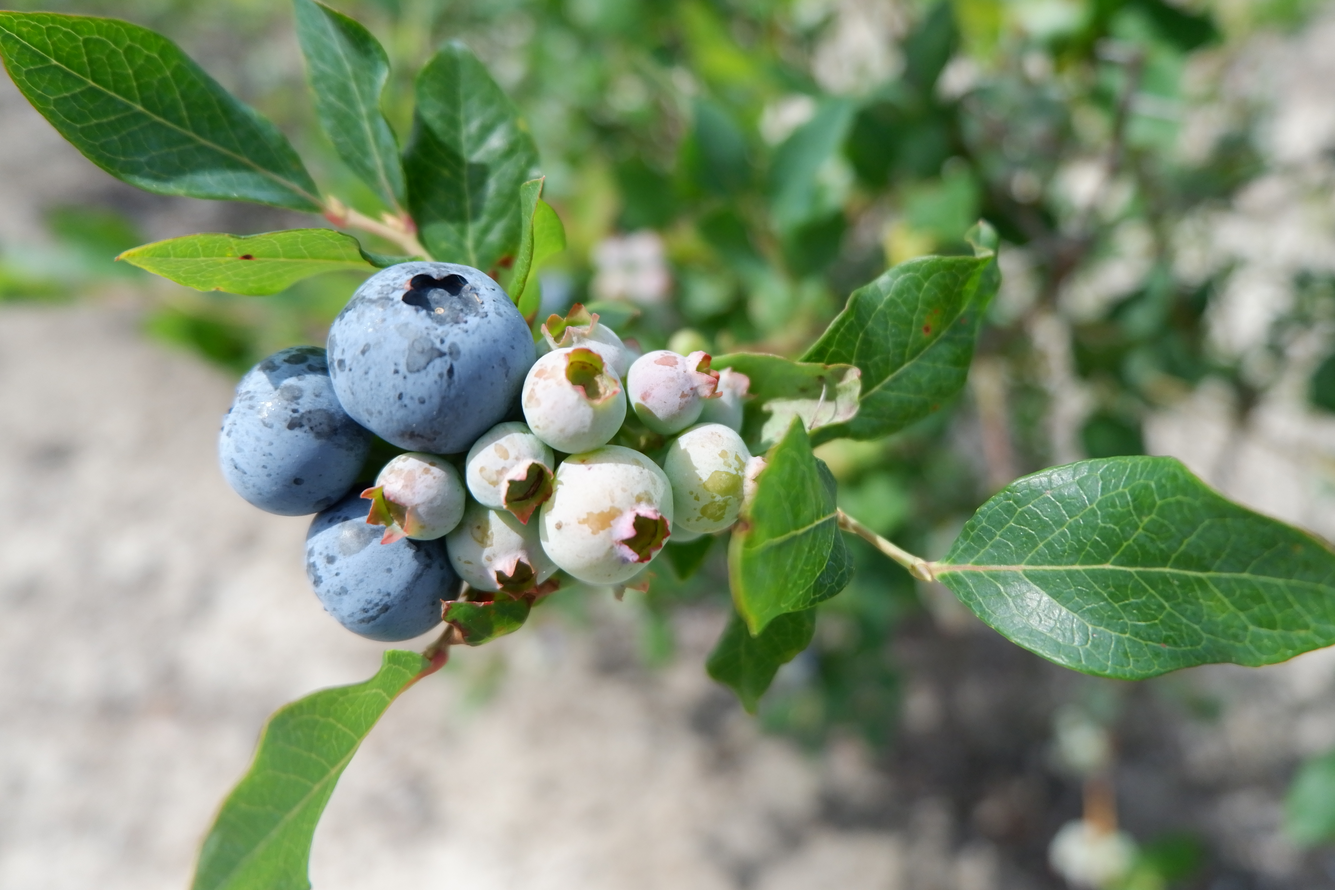Immature: (543, 448, 670, 584), (664, 428, 757, 537), (523, 350, 623, 450), (373, 455, 463, 538), (467, 427, 552, 513), (448, 505, 530, 589), (630, 351, 713, 432), (539, 307, 627, 379), (700, 369, 746, 431)
Mature: (332, 266, 530, 447), (218, 348, 366, 511), (306, 497, 456, 640)
